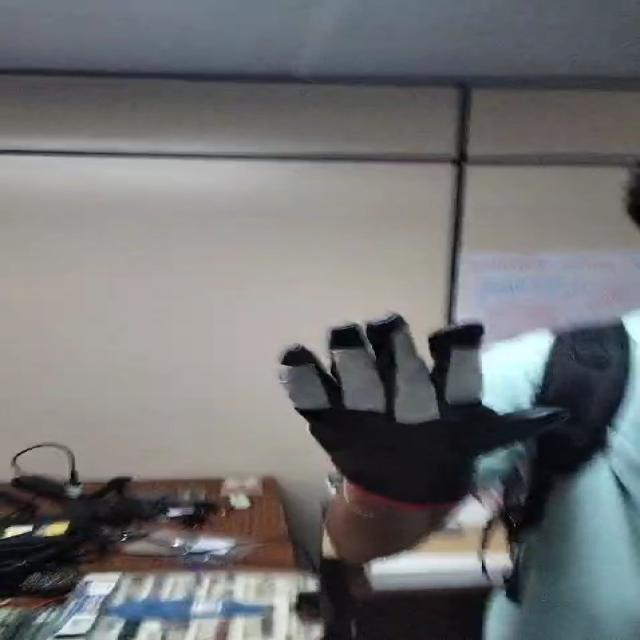Gloves: (278, 310, 562, 504)
